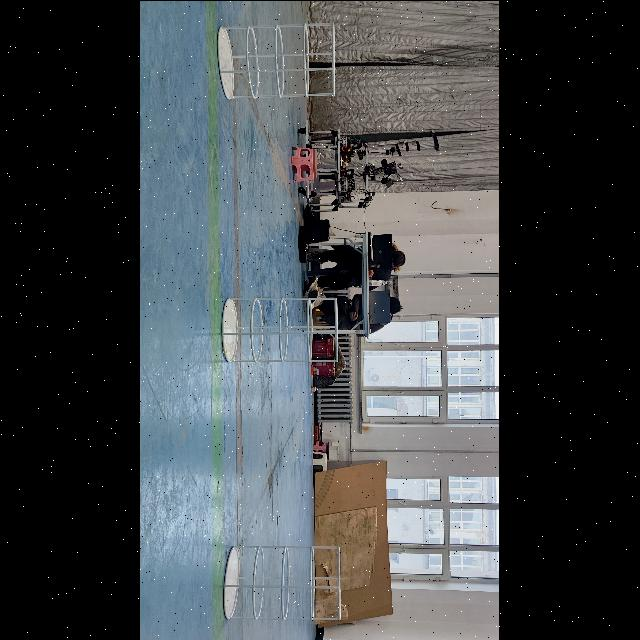S: (220, 540, 346, 624), (214, 18, 340, 102), (218, 294, 344, 368)
